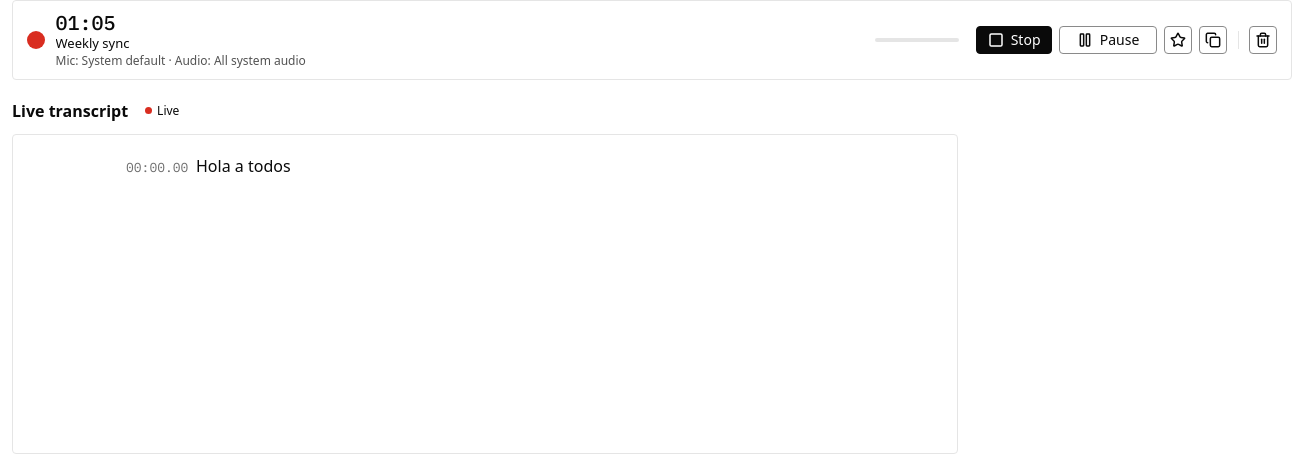
Test case: the recording bar content (items 50, 62) › puts the destination in the title tooltip
Hover over the text with test id "bar-title": (92, 42) x1=56 y1=34 x2=129 y2=52
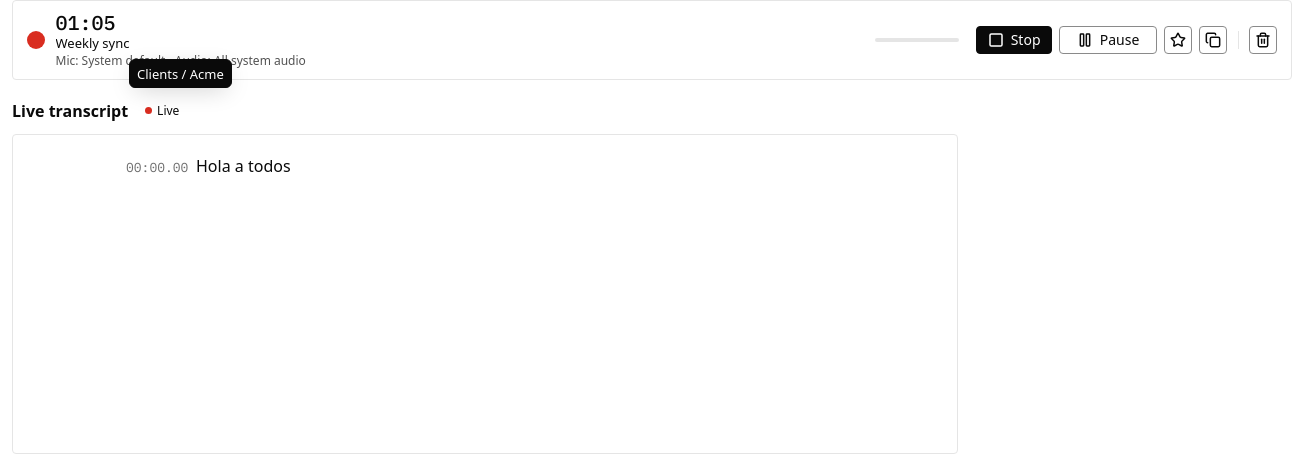
Check: the text "Clients / Acme" is shown, box x1=129 y1=59 x2=232 y2=88
